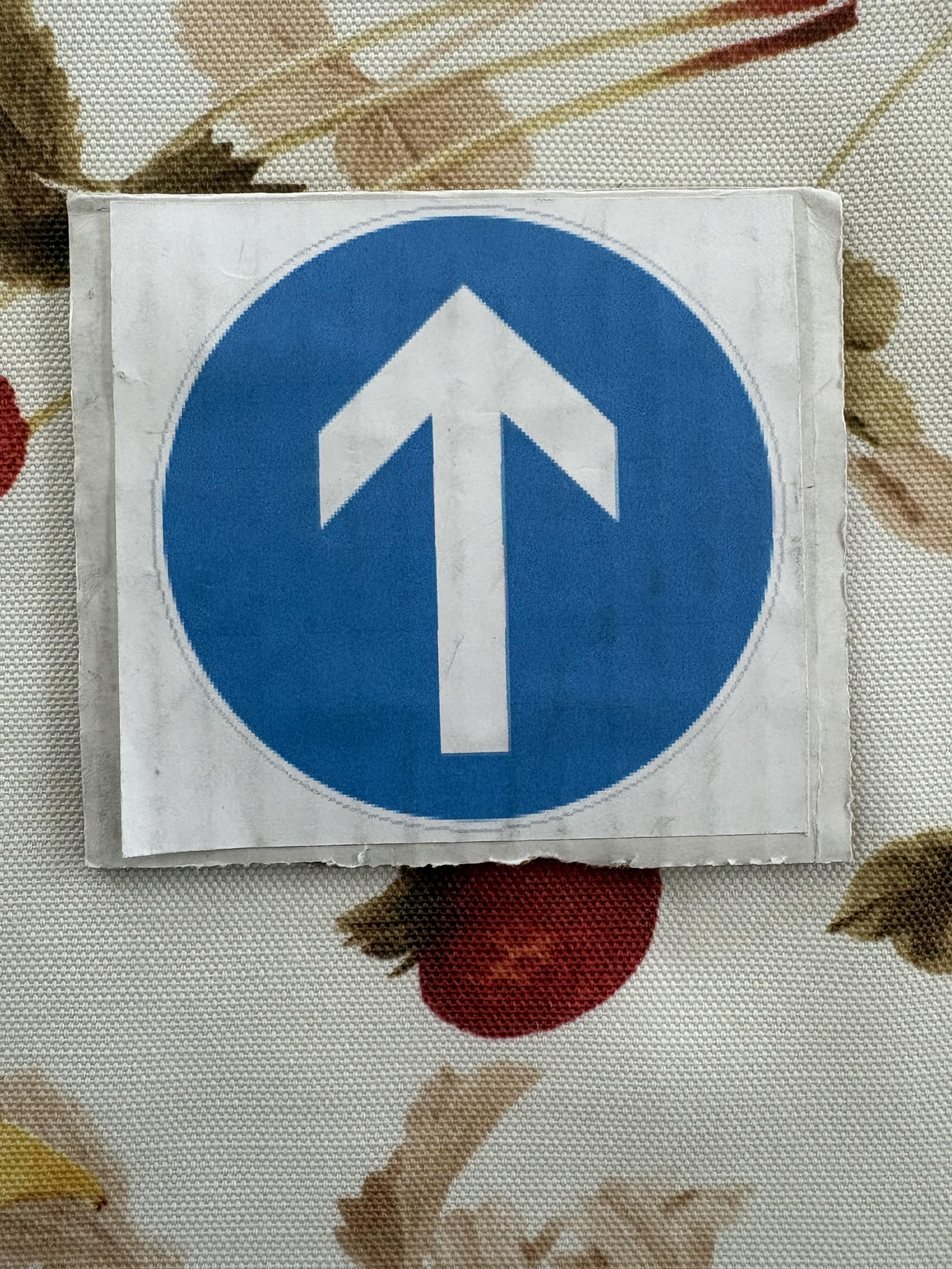Proceed Forward: (79, 192, 855, 854)
